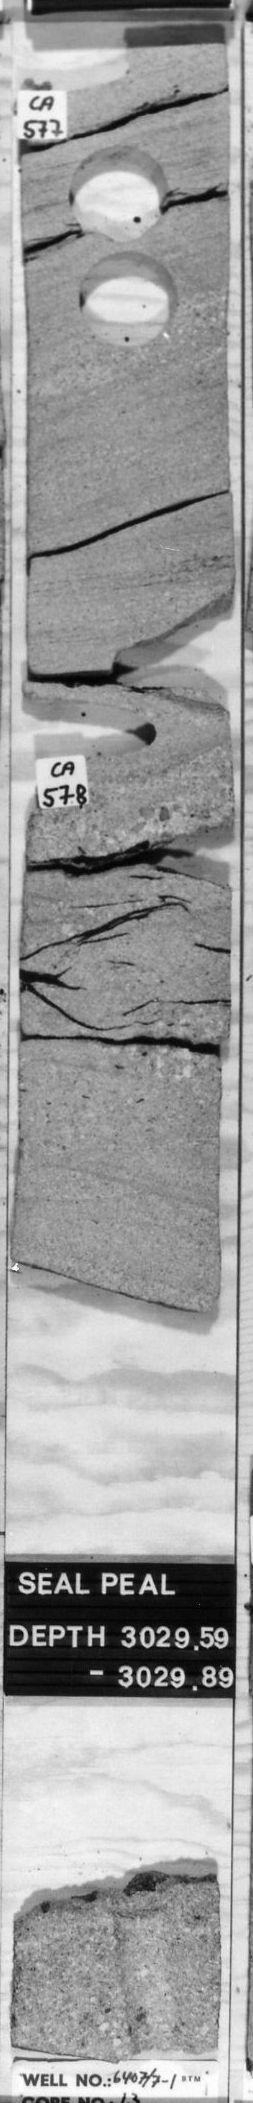hplug: (29, 685, 226, 789), (24, 28, 151, 105)
scal: (58, 137, 181, 243), (72, 245, 183, 353)
vplug: (102, 1888, 191, 2053)
